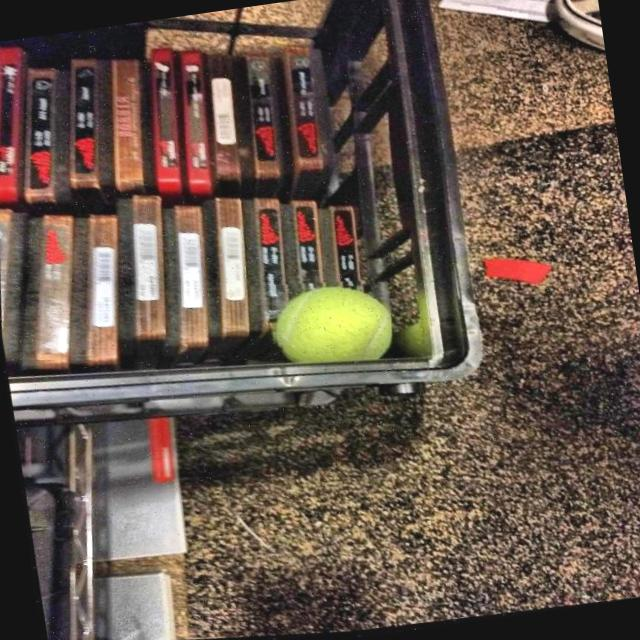Tennis Ball: (260, 270, 403, 391)
